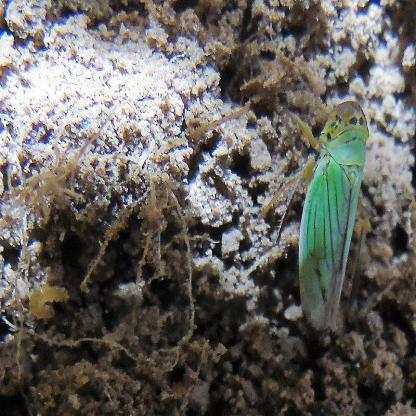Green-Leafhopper: (279, 96, 370, 344)
